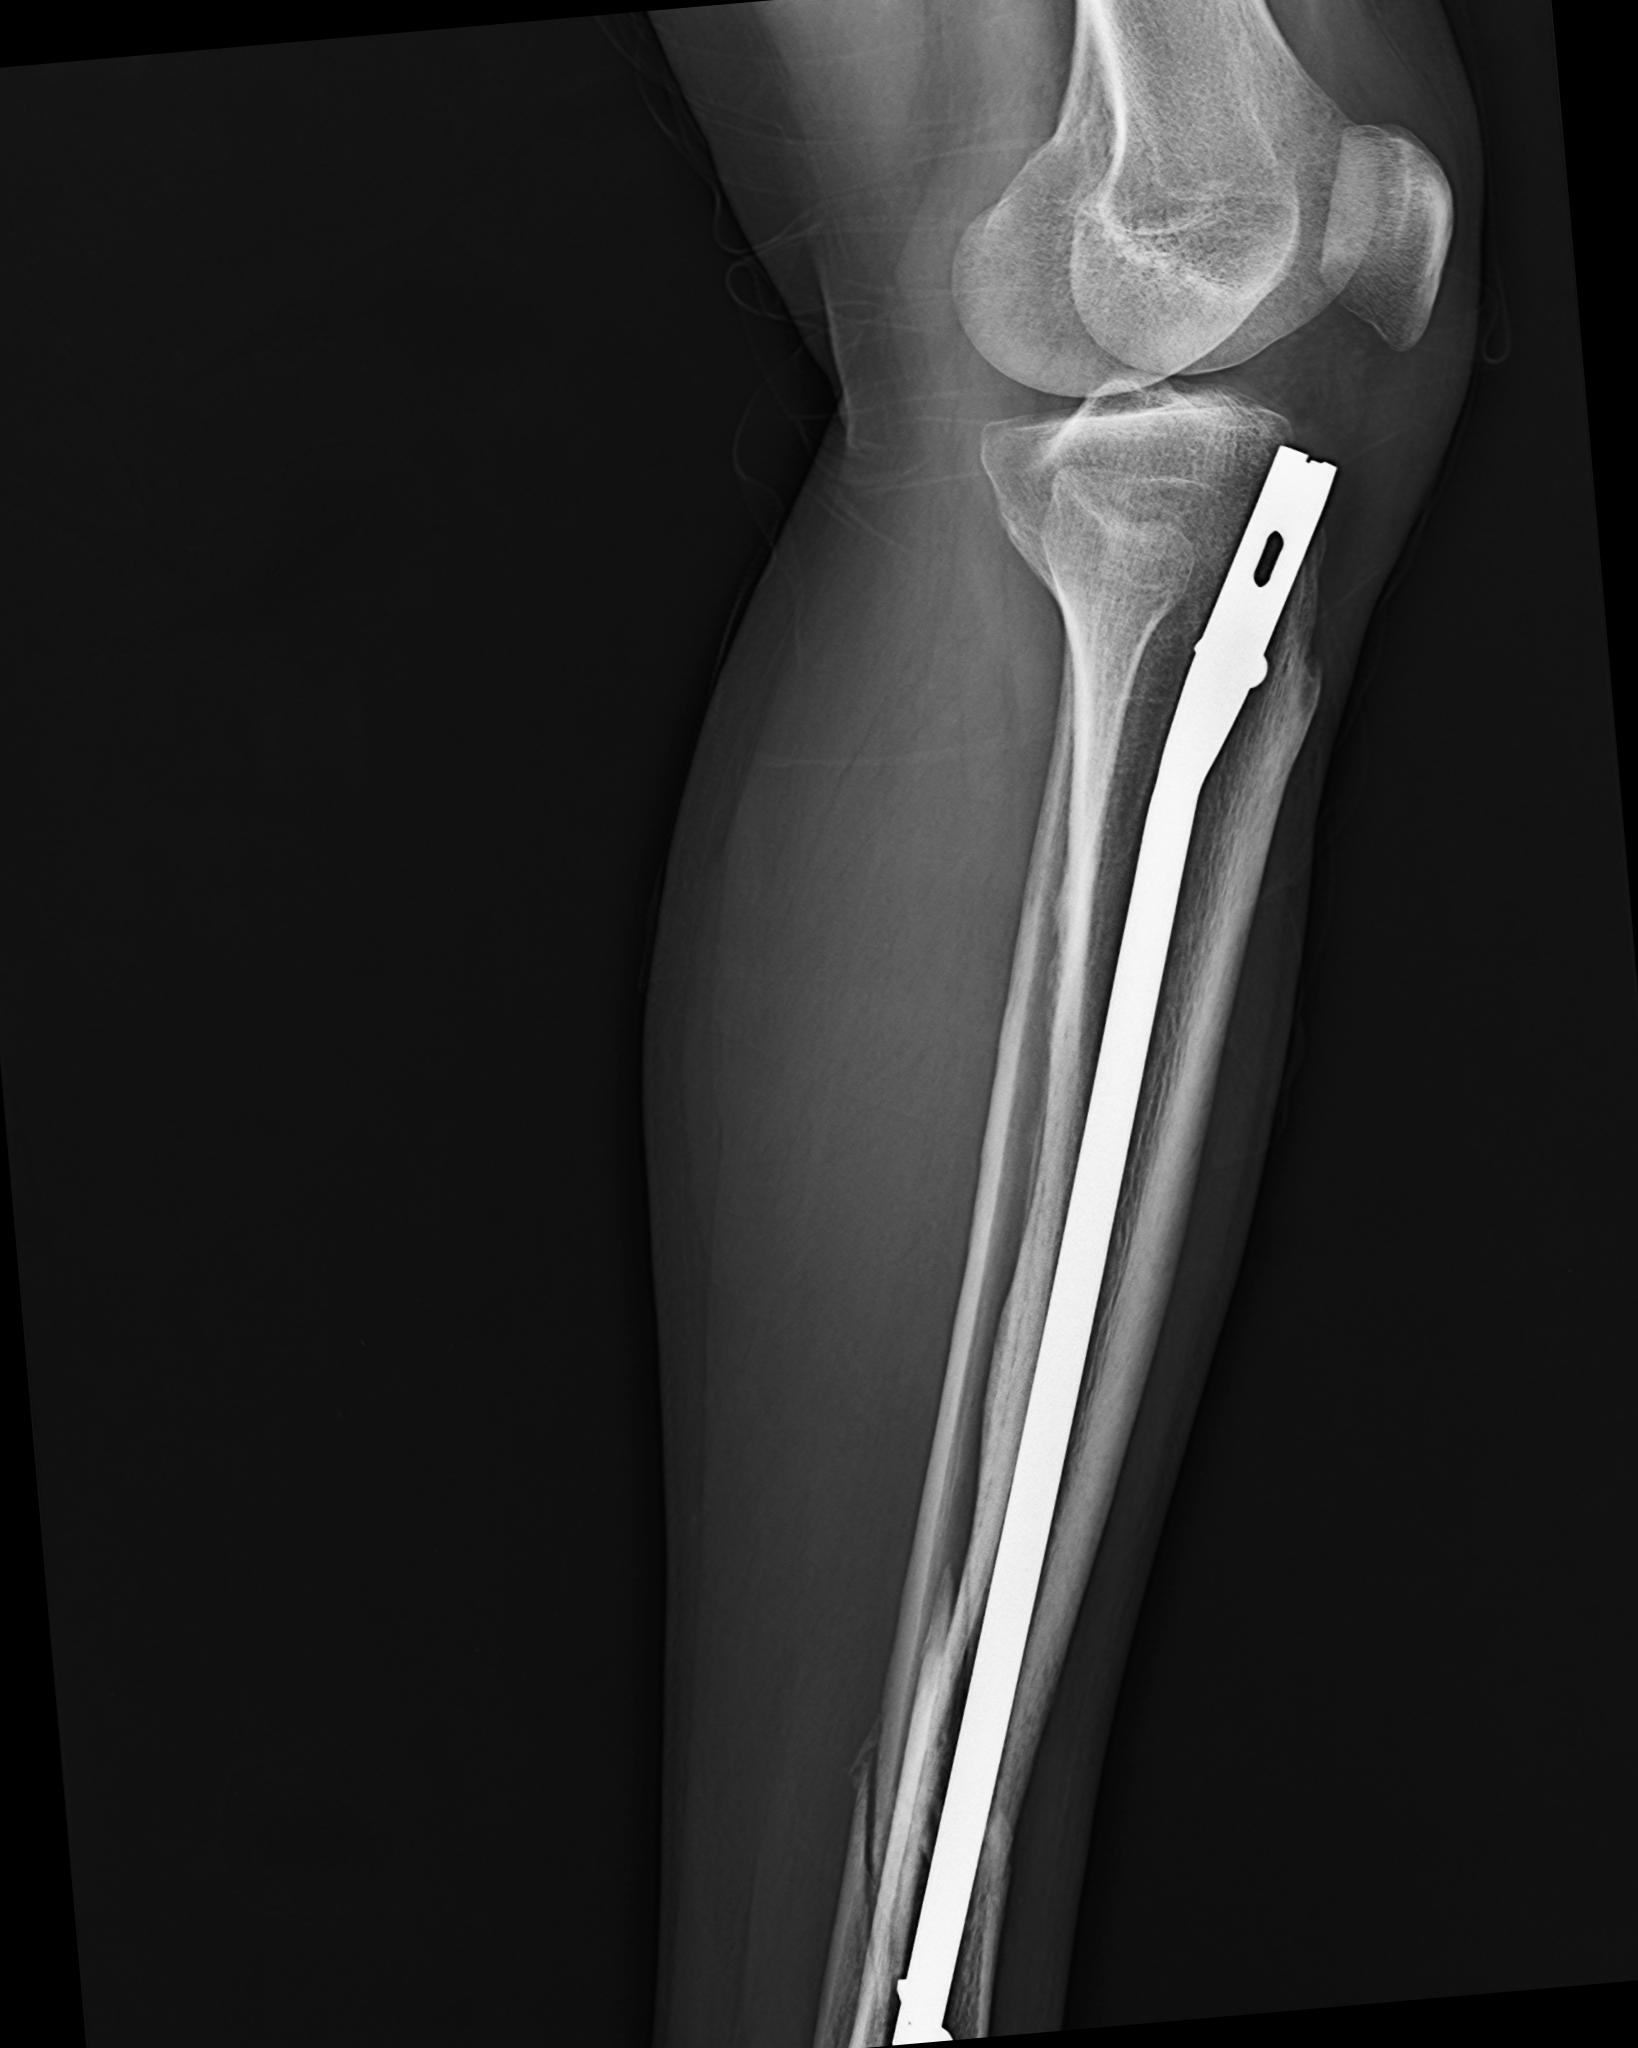fractured: (844, 1543, 994, 2023)
